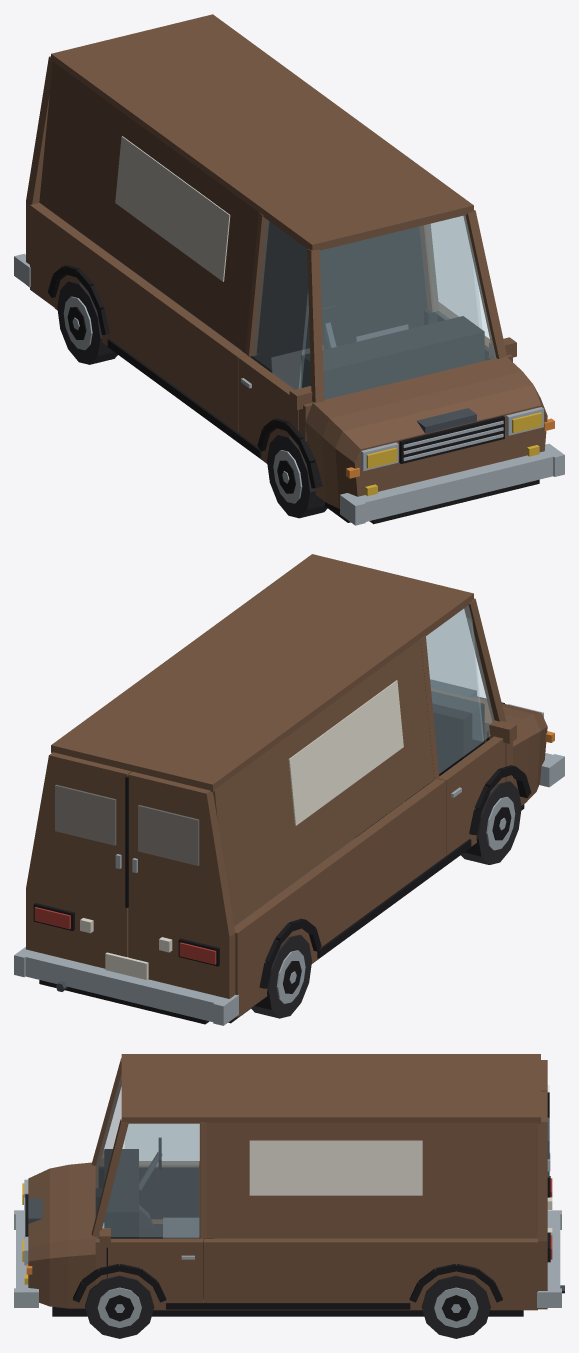
The model's file is GV_Van_01.glb.
The picture shows the model from 3 angles, top to bottom: view 1: azimuth 30°, elevation 25°; view 2: azimuth 150°, elevation 25°; view 3: azimuth 270°, elevation 25°; orthographic projection. The views are drawn at different scales.
Parts seen in each view (by area): view 1: GV_Van_01, Door_FR, Hood, Door_FL, Wheel_FR, Wheel_RR, RearDoor_R; view 2: GV_Van_01, RearDoor_R, RearDoor_L, Door_FR, Wheel_FR, Wheel_RR, Hood; view 3: GV_Van_01, Door_FL, Door_FR, Hood, Wheel_FL, Wheel_RL, RearDoor_L, RearDoor_R.
Part boxes in pixels (x1=…): GV_Van_01: x1=14, y1=14, x2=564, y2=525; Door_FR: x1=238, y1=218, x2=313, y2=453; Hood: x1=305, y1=356, x2=532, y2=450; Door_FL: x1=426, y1=216, x2=516, y2=360; Wheel_FR: x1=267, y1=434, x2=327, y2=518; Wheel_RR: x1=57, y1=281, x2=117, y2=364; RearDoor_R: x1=26, y1=56, x2=102, y2=264; GV_Van_01: x1=14, y1=554, x2=564, y2=1025; RearDoor_R: x1=128, y1=771, x2=235, y2=998; RearDoor_L: x1=26, y1=752, x2=148, y2=979; Door_FR: x1=426, y1=605, x2=516, y2=855; Wheel_FR: x1=461, y1=781, x2=521, y2=864; Wheel_RR: x1=251, y1=934, x2=311, y2=1018; Hood: x1=431, y1=689, x2=540, y2=747; GV_Van_01: x1=14, y1=1054, x2=564, y2=1316; Door_FL: x1=99, y1=1124, x2=202, y2=1302; Door_FR: x1=99, y1=1124, x2=199, y2=1223; Hood: x1=49, y1=1162, x2=95, y2=1260; Wheel_FL: x1=85, y1=1274, x2=154, y2=1338; Wheel_RL: x1=421, y1=1275, x2=490, y2=1338; RearDoor_L: x1=538, y1=1091, x2=552, y2=1290; RearDoor_R: x1=541, y1=1060, x2=552, y2=1209.
Bounding box in the file's own units: 2.12 × 2.43 × 5.73.
Materials: 2 (2 with a texture image).
